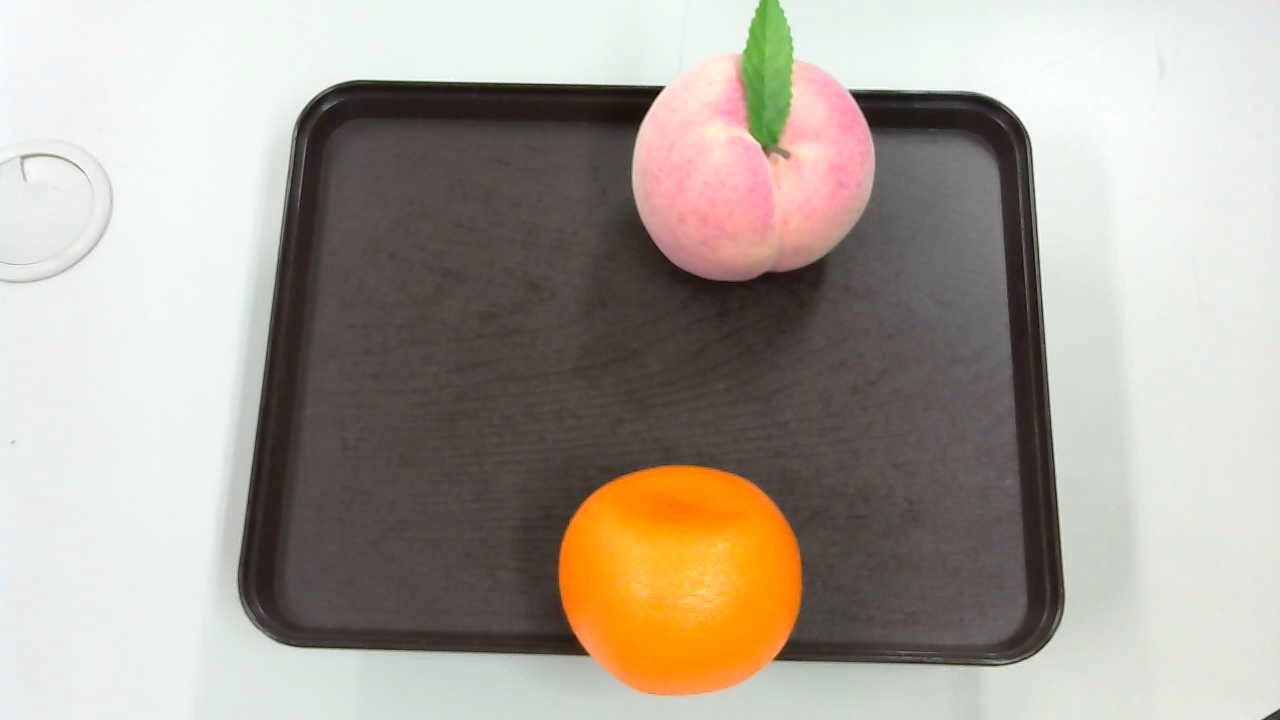orange: (556, 467, 802, 693)
peach: (633, 1, 879, 290)
